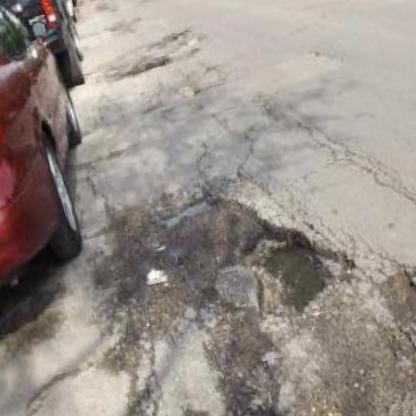pothole: (230, 219, 350, 331), (371, 262, 416, 329), (121, 50, 173, 78), (141, 258, 174, 289)
